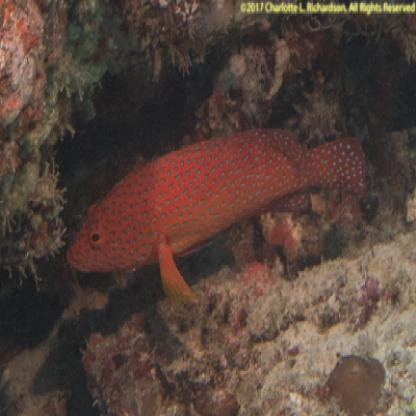Serranidae -Groupers-: (62, 121, 374, 317)
